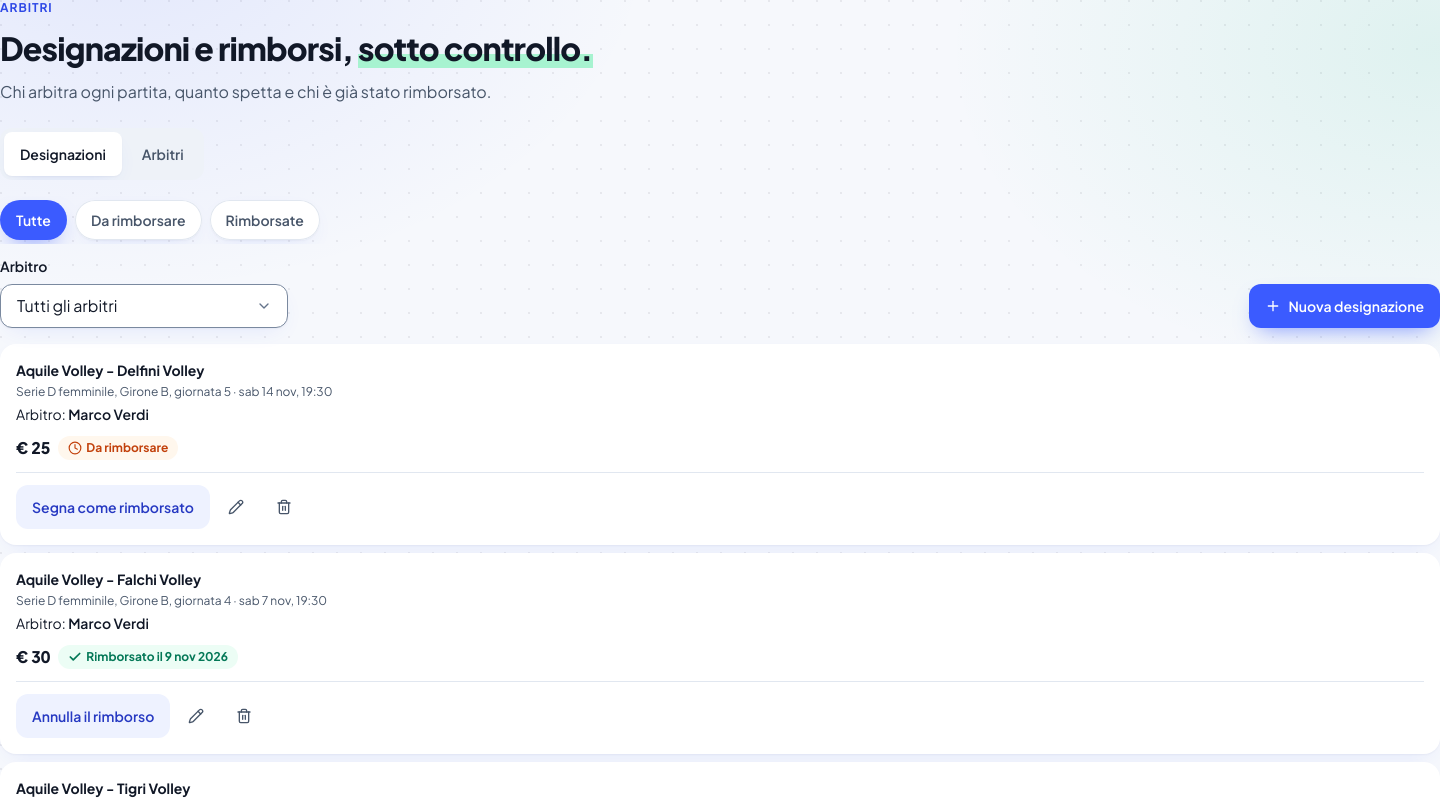
Test case: ArbitriPage designations › designates a referee for a match of the selected group
Click the button "Nuova designazione".
click(1344, 306)  # box top-left (1248, 284), bottom-right (1439, 328)
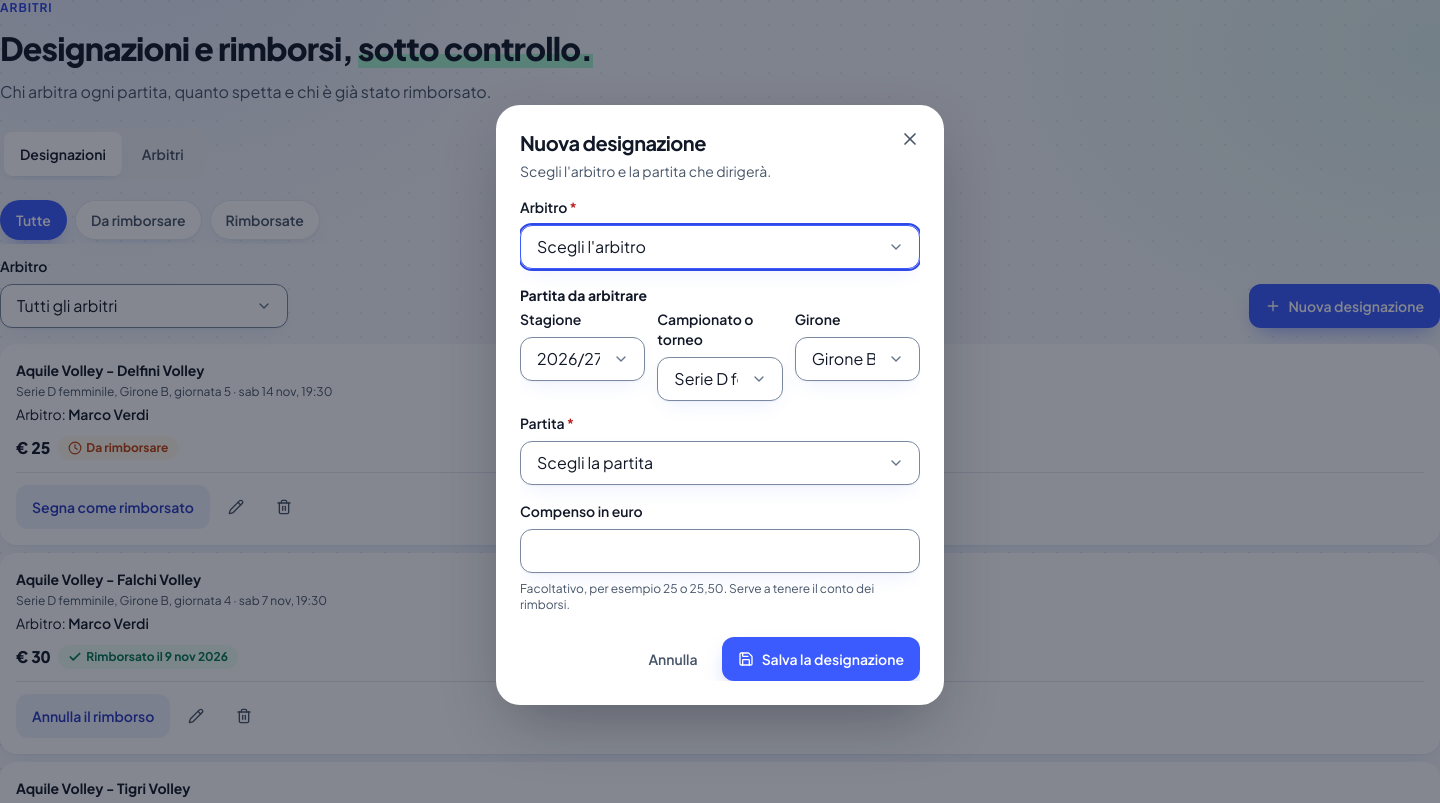
Click the button "Salva la designazione".
click(821, 659)  # box top-left (722, 637), bottom-right (920, 681)
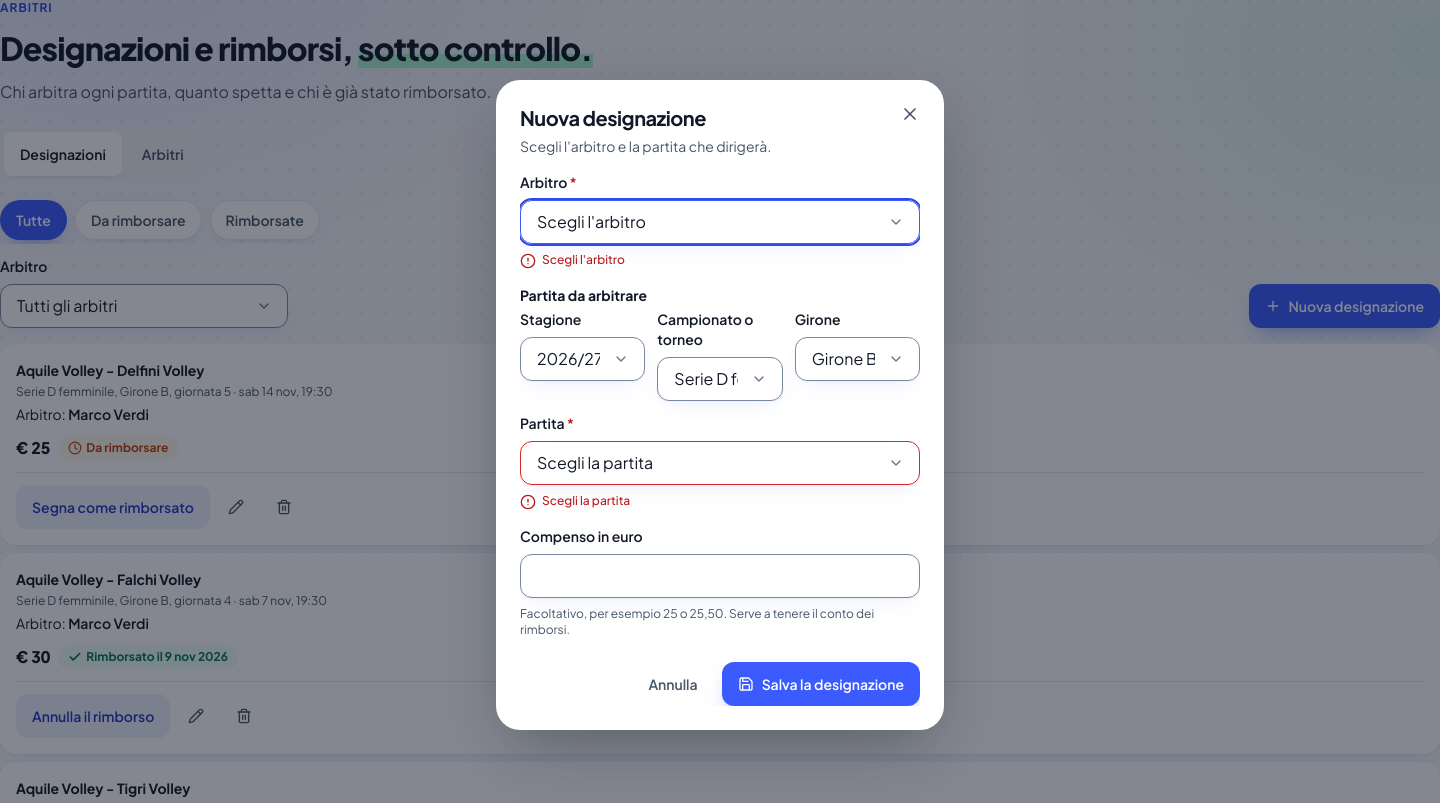
Now the text "Scegli l'arbitro" is shown, box top-left (542, 252), bottom-right (625, 268)
Now the text "Scegli la partita" is shown, box top-left (542, 493), bottom-right (630, 509)
Select "Marco Verdi" in the dropdown labelled "Arbitro*" at [720, 222], box top-left (520, 200), bottom-right (920, 244)
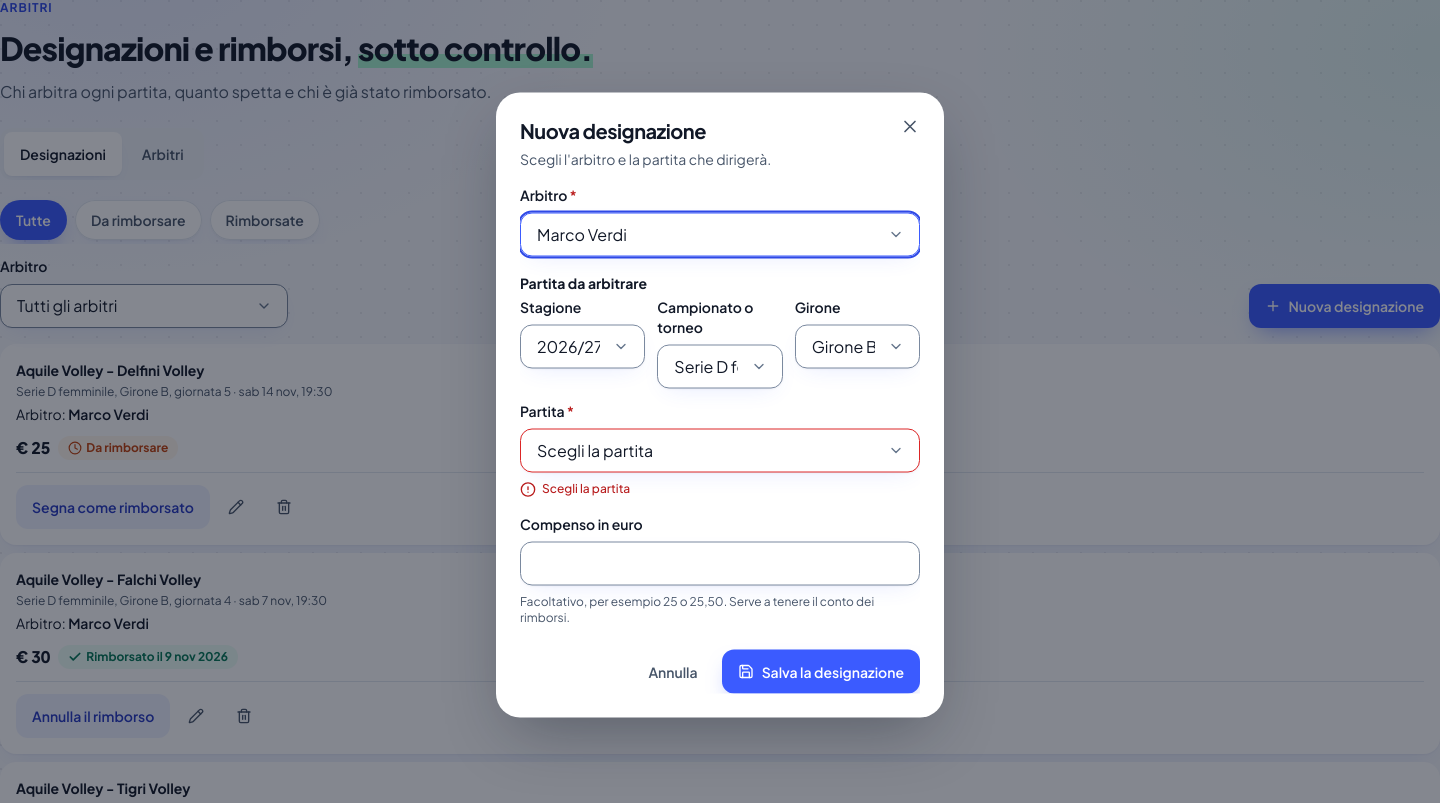
Now the dropdown labelled "Partita*" is enabled
Select "G5 · Aquile Volley - Delfini Volley · sab 14 nov, 19:30" in the dropdown labelled "Partita*" at [720, 450], box top-left (520, 428), bottom-right (920, 472)
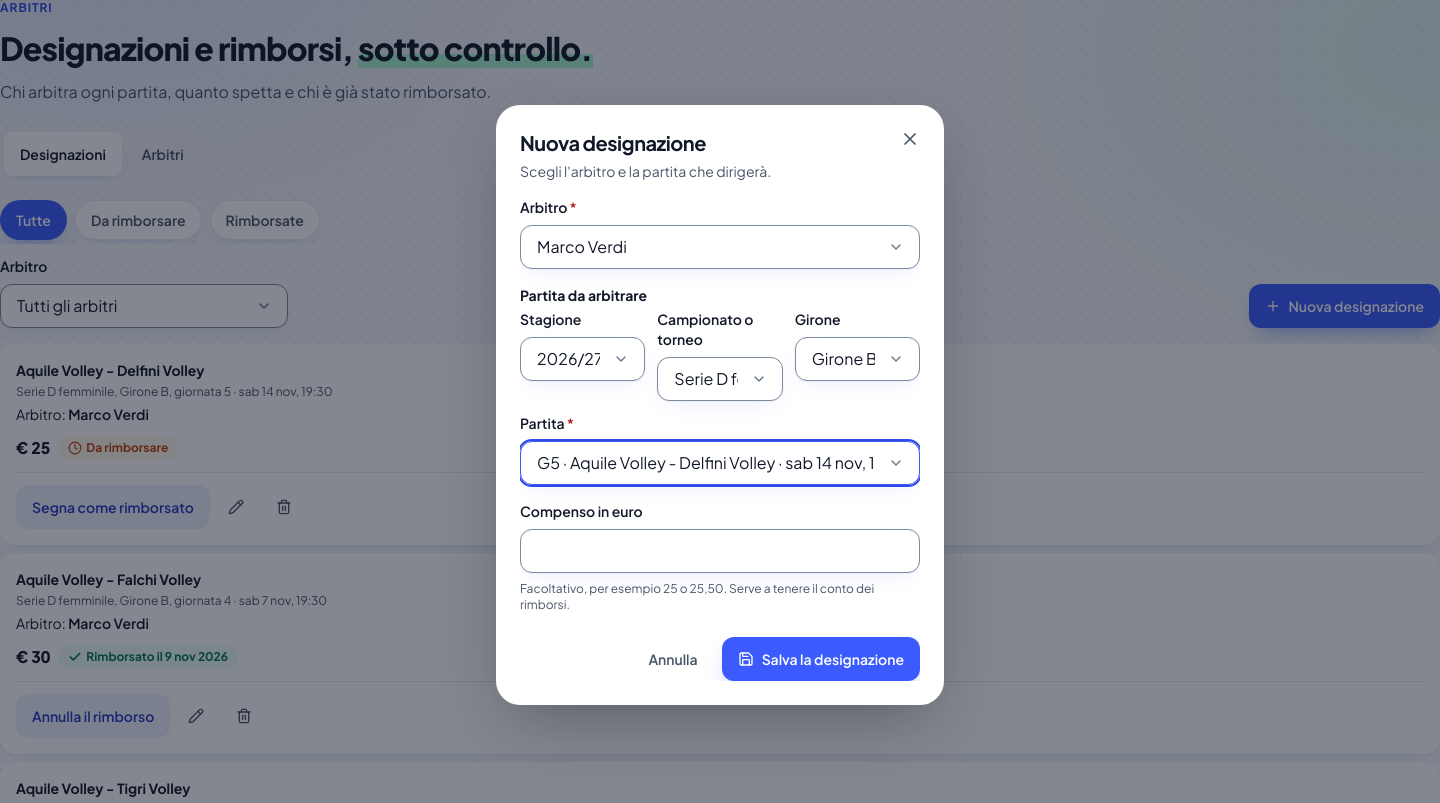
Type "25,50" into the field labelled "Compenso in euro".
click(720, 551); type("25,50")  # box top-left (520, 529), bottom-right (920, 573)
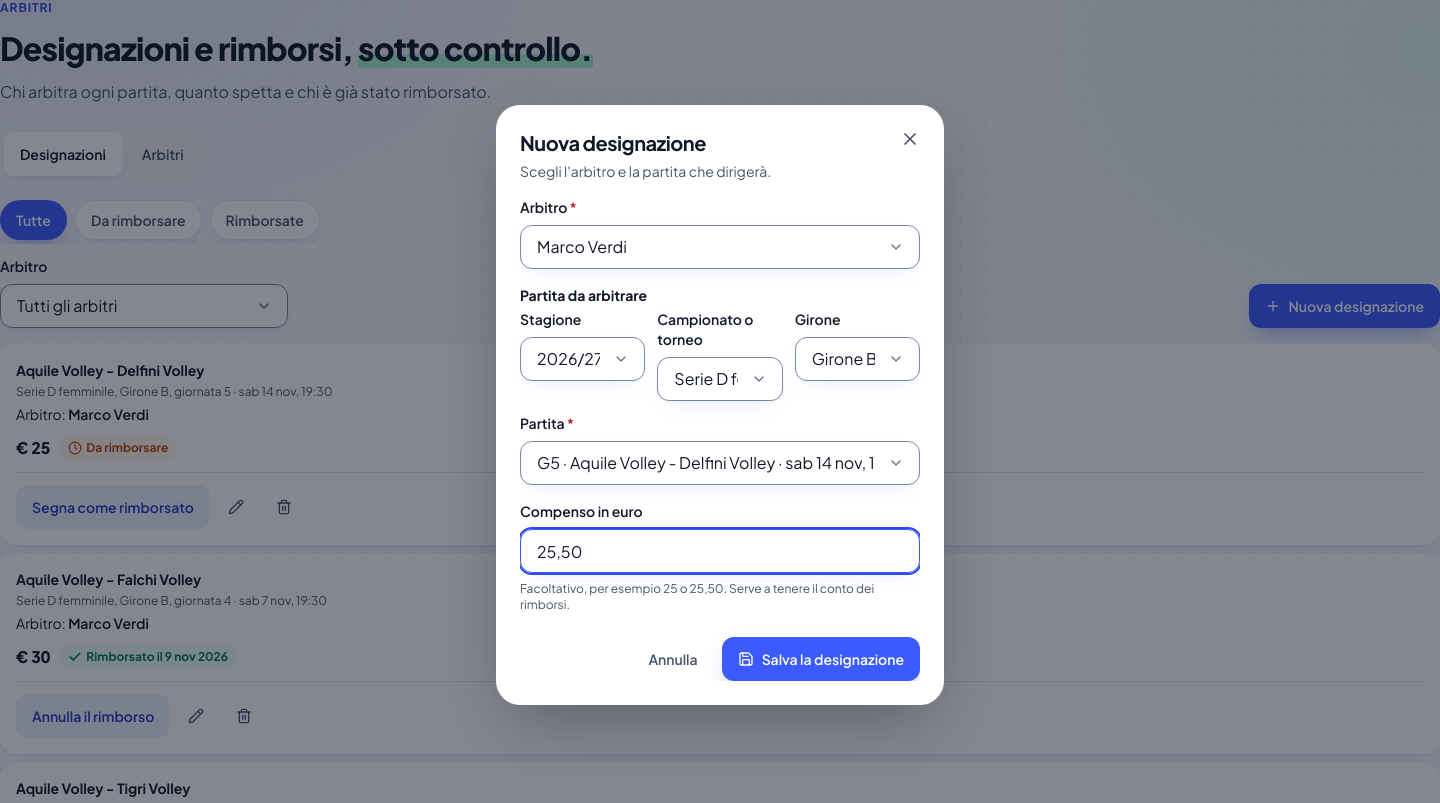
Click the button "Salva la designazione".
click(821, 659)  # box top-left (722, 637), bottom-right (920, 681)
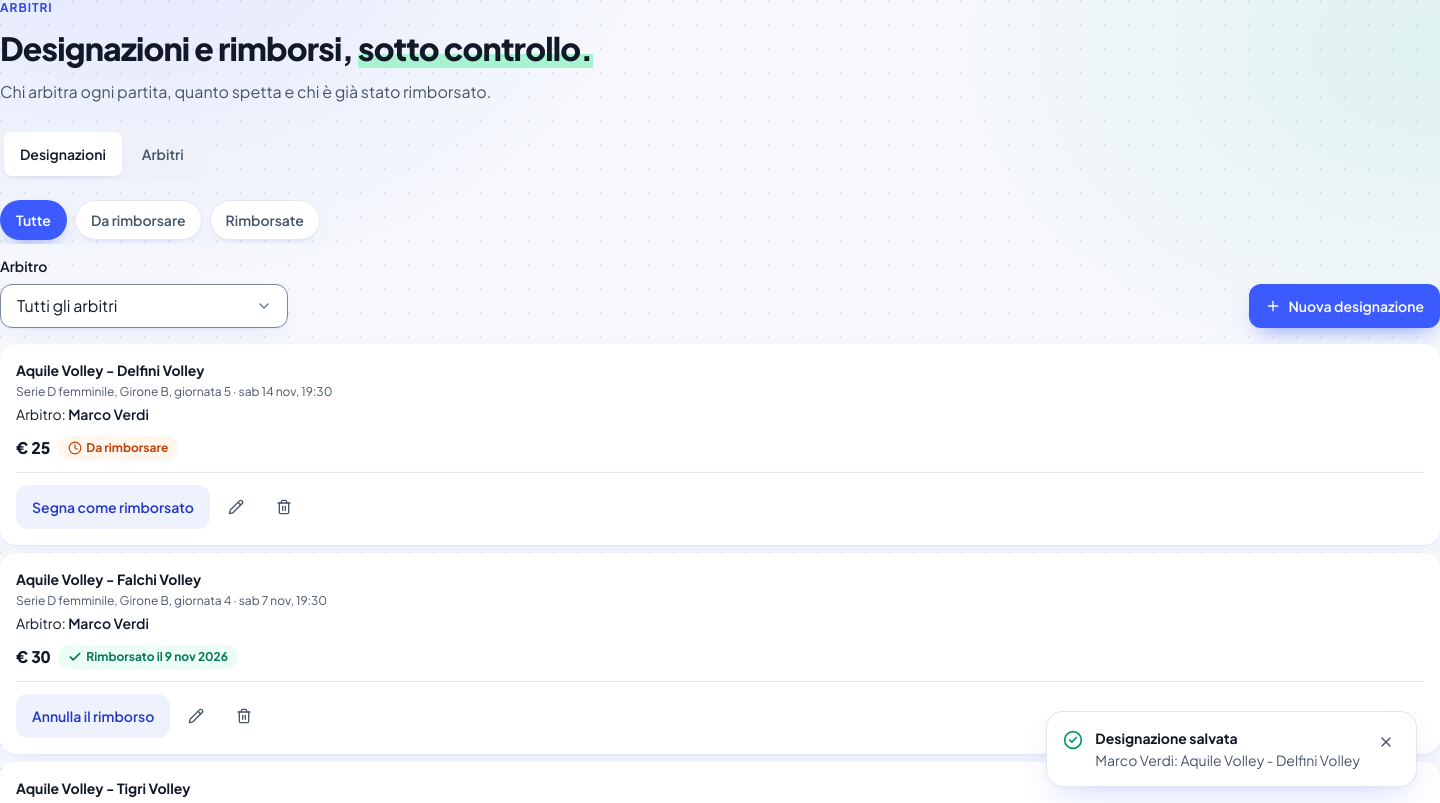
Now the text "Designazione salvata" is shown, box top-left (1095, 729), bottom-right (1238, 747)
